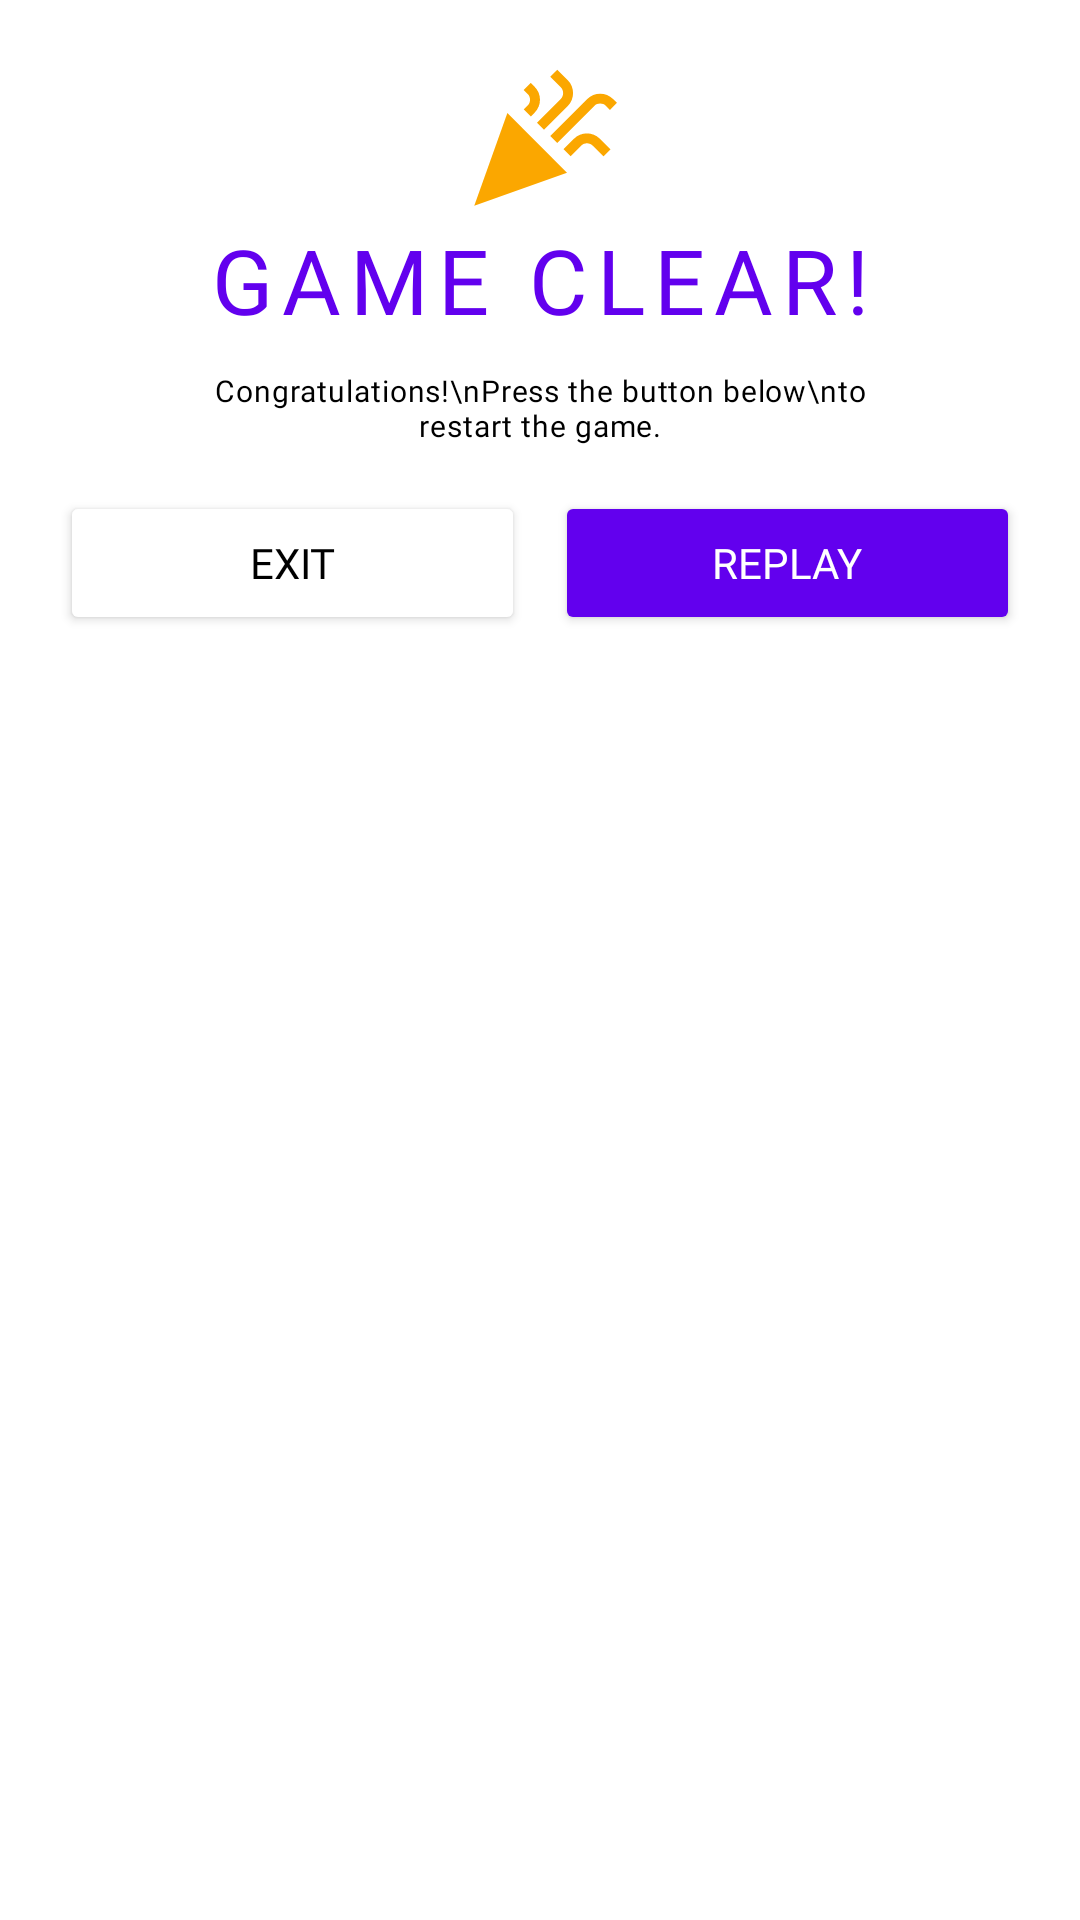

Icon click points for this 1080*1920 phone screenshot, format (x,y):
celebration: (545,138)
